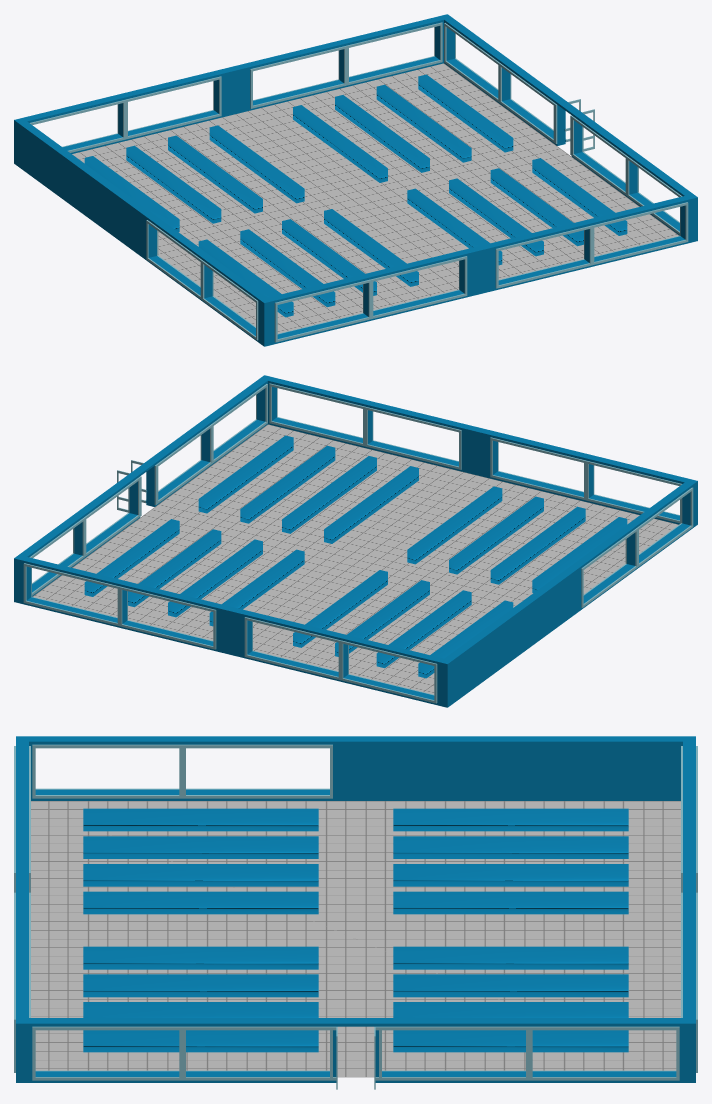
File: avm_5_Mavi.fbx
3 renders of one model, top to bottom at view 1: azimuth 30°, elevation 25°; view 2: azimuth 150°, elevation 25°; view 3: azimuth 270°, elevation 25°, orthographic. The views are drawn at different scales.
Parts seen in each view (by area): view 1: Plane; view 2: Plane; view 3: Plane.
Boxes of the visible parts, box(x1,y1,x2,y2) form: Plane: box(14, 14, 697, 346); Plane: box(14, 375, 697, 707); Plane: box(14, 736, 697, 1089).
Size of the model in its own units: 10790 by 1090 by 10460.
